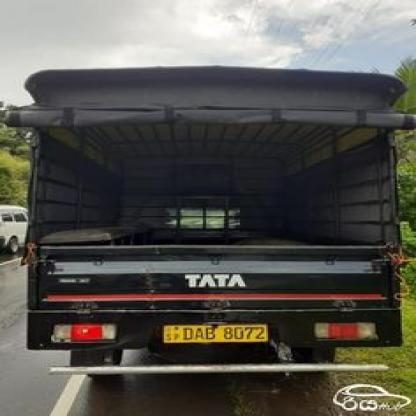Lorry back: (5, 63, 416, 380)
number plate: (161, 324, 269, 340)
